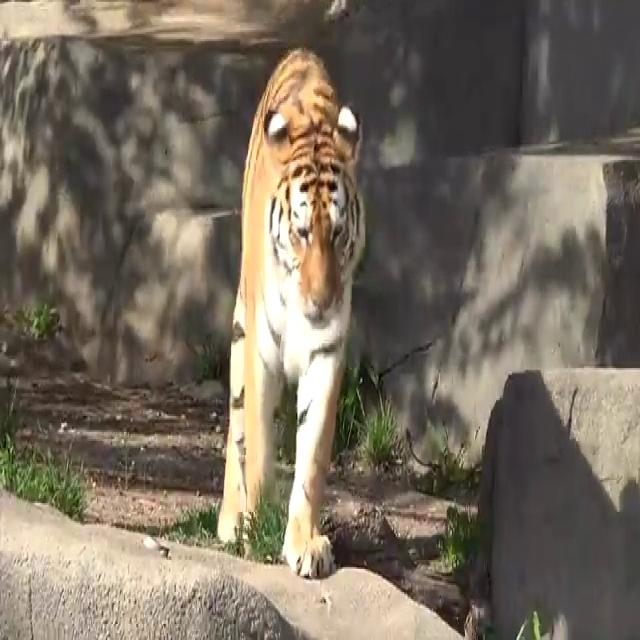tiger: (217, 46, 365, 580)
